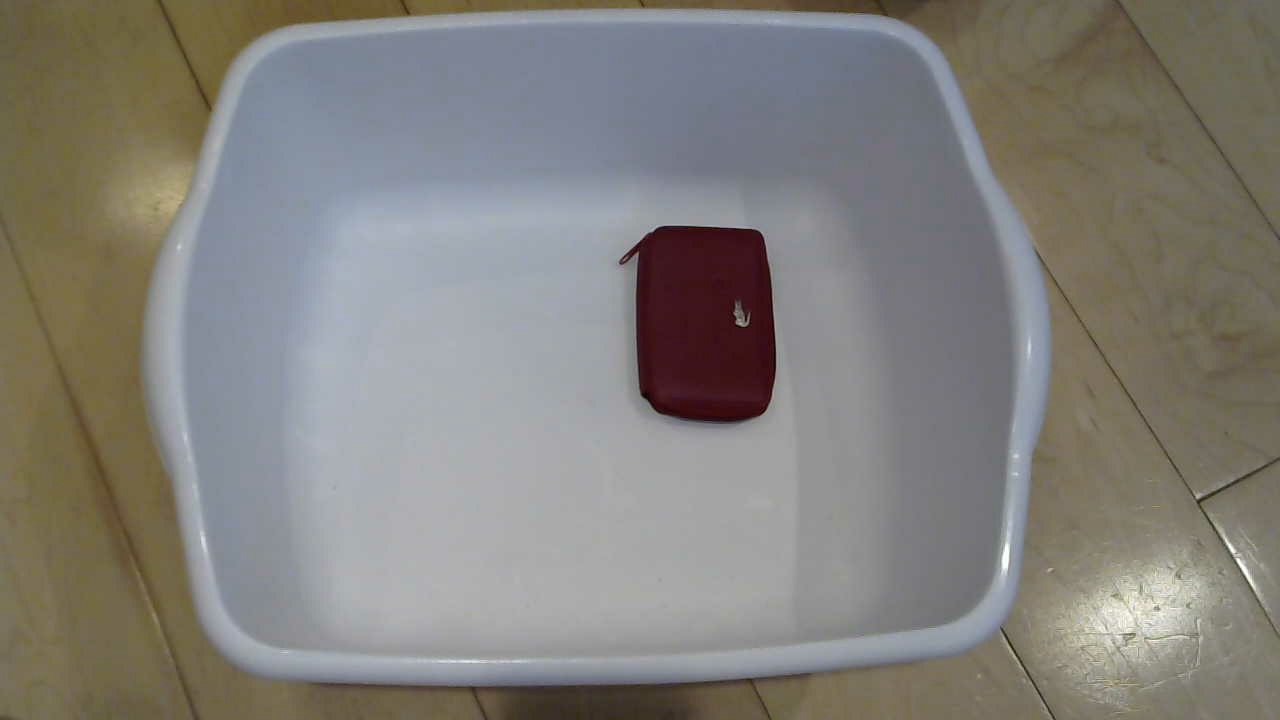wallet: (607, 221, 795, 452)
